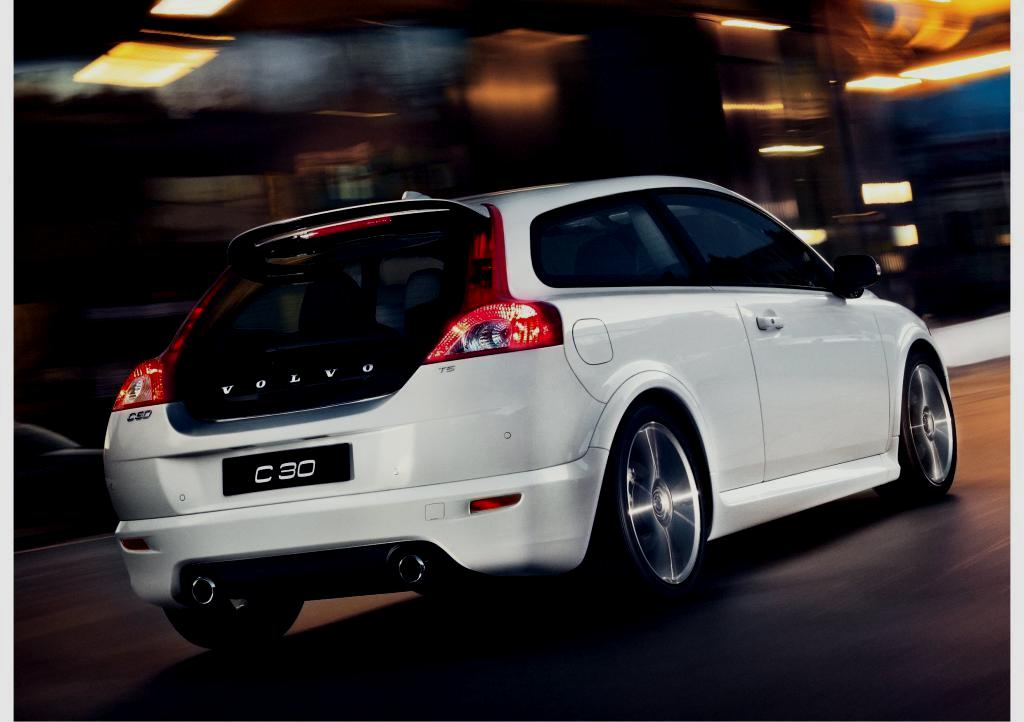volvo: (198, 352, 402, 410)
